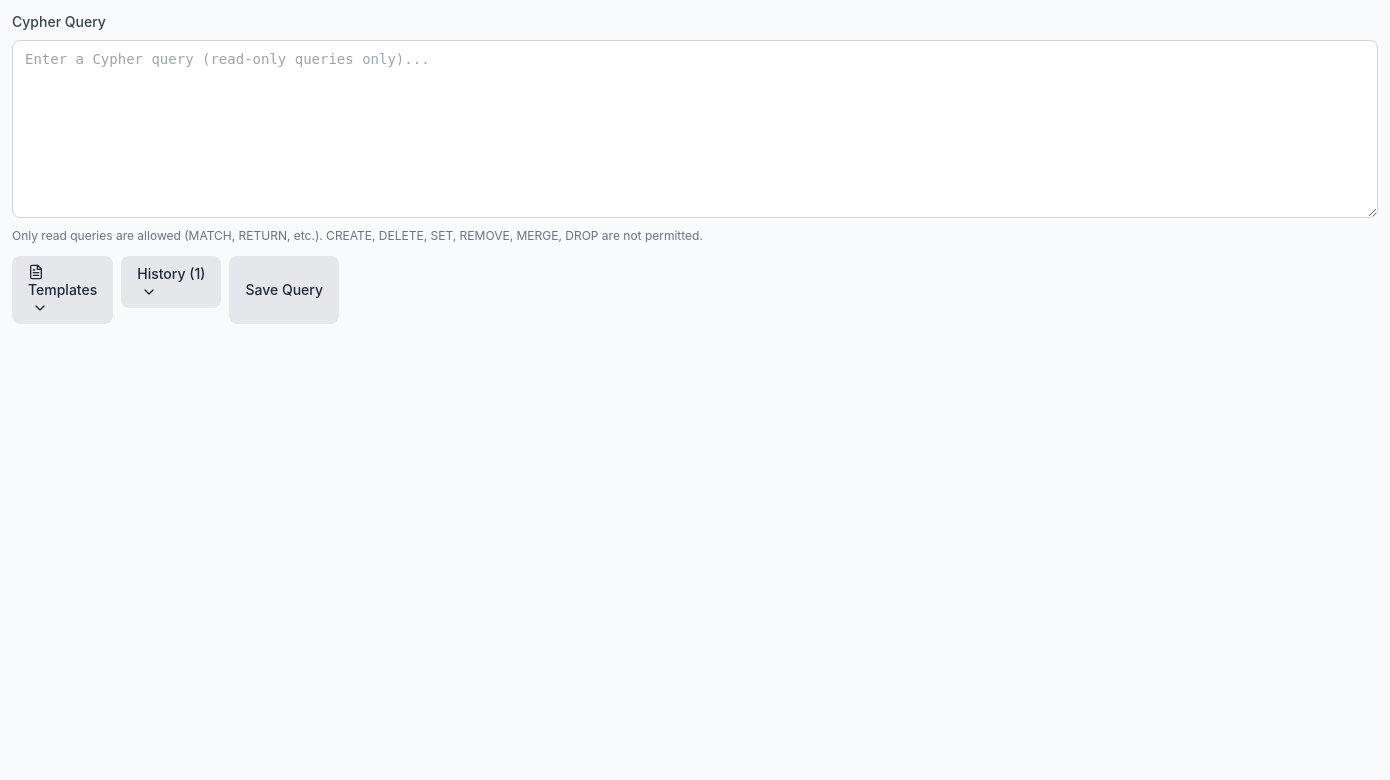
QueryBuilder › templates › should hide templates when history is opened
Click the button with aria-label "Show query templates".
click(63, 290)  # box [12,256,113,324]
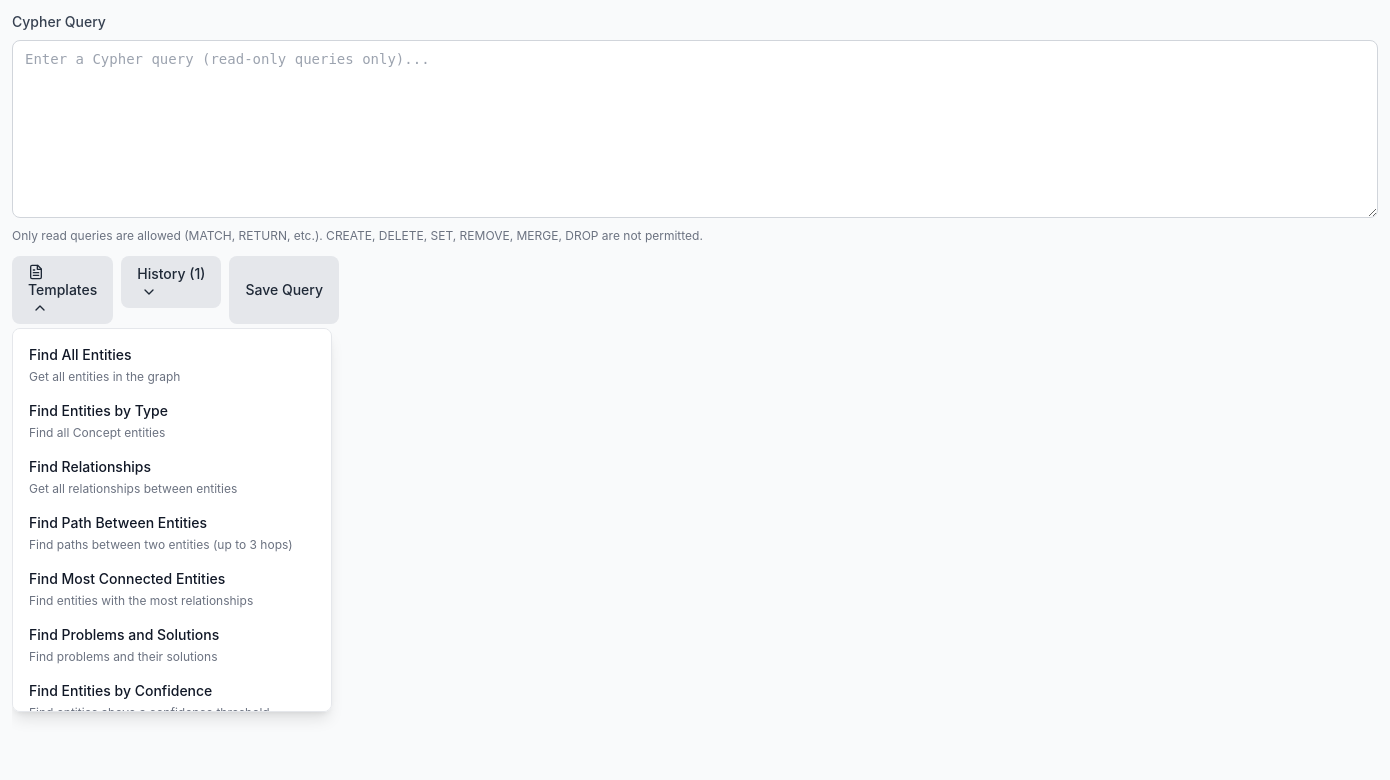
Result: the text "Find All Entities" is shown at [29,346,132,363]
Click the button with aria-label "Show query history".
click(171, 282)  # box [121,256,221,308]
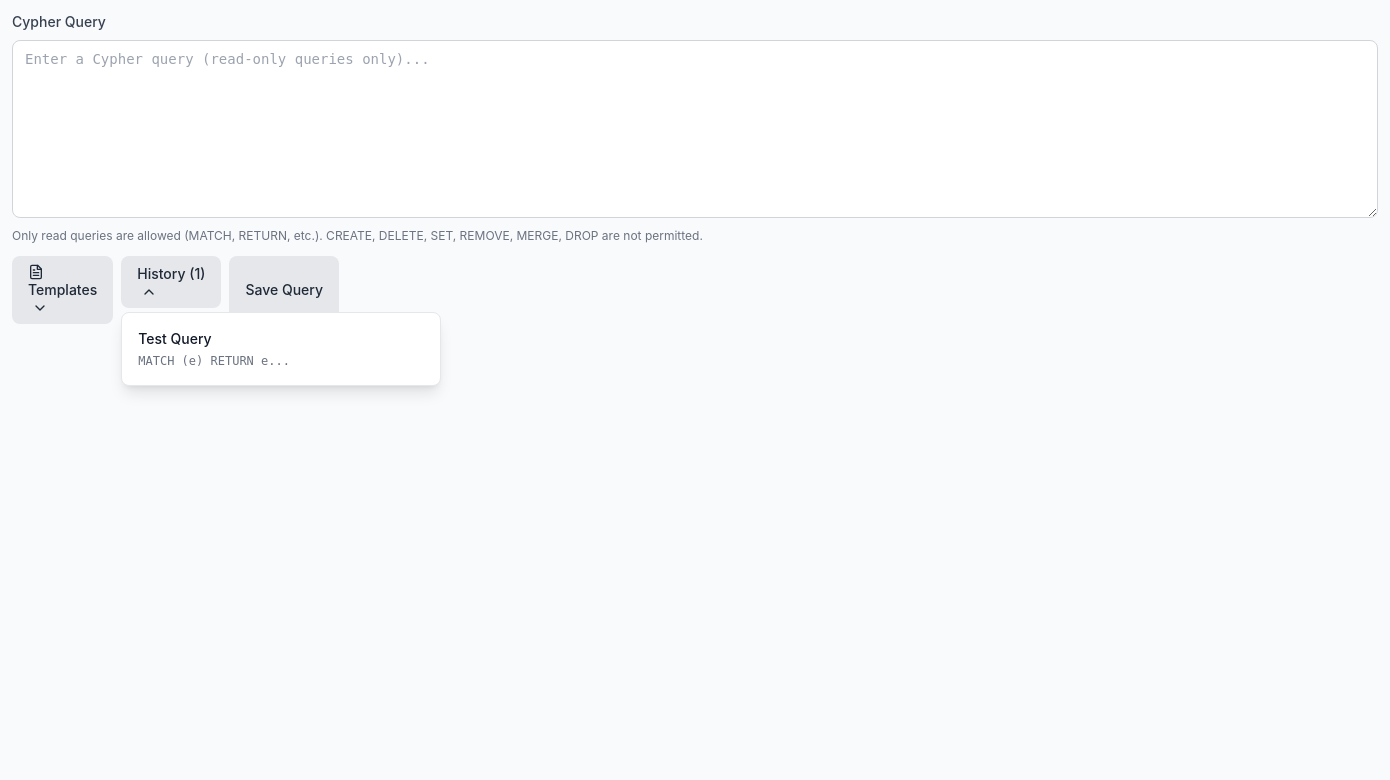
Result: the button "Find All Entities" is gone
Result: the text "Test Query" is shown at [138,330,212,347]
